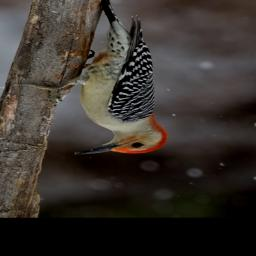Woodpecker: (21, 0, 168, 155)
